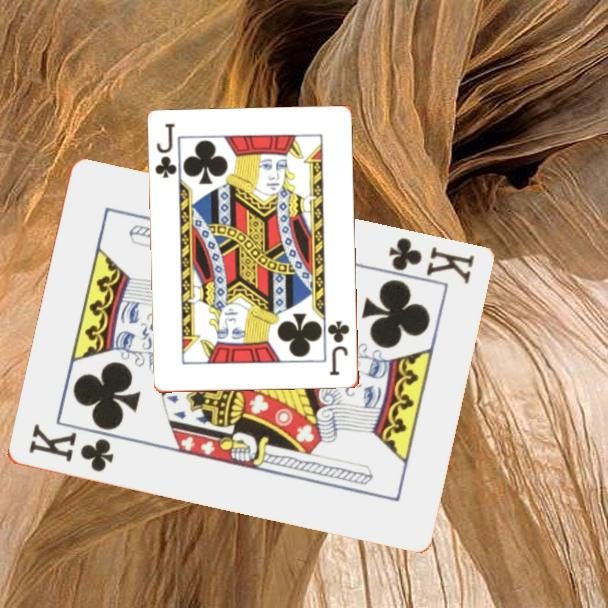c11: (152, 120, 180, 181), (325, 318, 352, 379)
c13: (24, 421, 117, 476), (384, 234, 477, 288)
